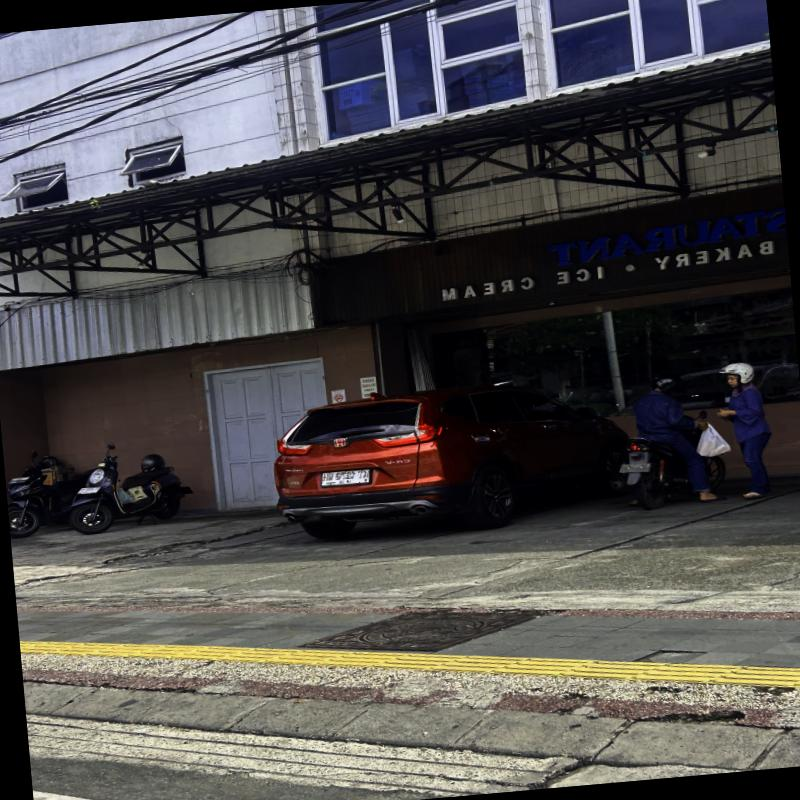license plate on a car: (320, 469, 371, 486)
